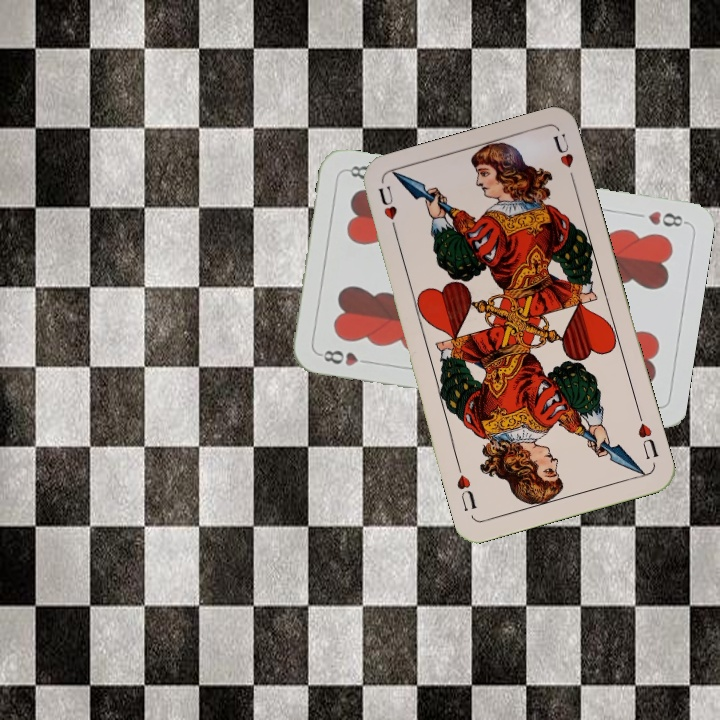H8: (315, 346, 374, 369), (644, 207, 689, 230)
HU: (633, 408, 661, 462), (374, 182, 400, 238)
